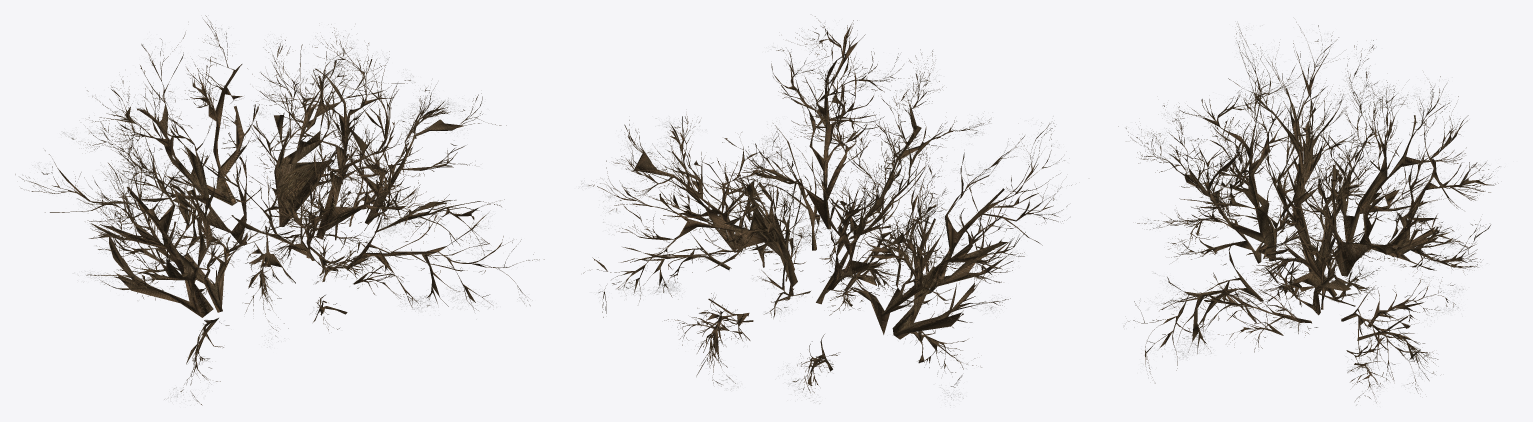
Rendered from ENT-ARV-002.glb.
The picture shows the model from 3 angles, left to right: view 1: azimuth 30°, elevation 25°; view 2: azimuth 150°, elevation 25°; view 3: azimuth 270°, elevation 25°; orthographic projection. The views are drawn at different scales.
Visible parts, largest first — view 1: ENT-ARV-002; view 2: ENT-ARV-002; view 3: ENT-ARV-002.
Boxes of the visible parts, x1,y1,x2,y2 form: ENT-ARV-002: [15, 15, 544, 405]; ENT-ARV-002: [583, 16, 1071, 400]; ENT-ARV-002: [1118, 22, 1499, 405].
Bounding box in the file's own units: 13.29 × 9.35 × 10.37.
2 materials, 2 textured.
